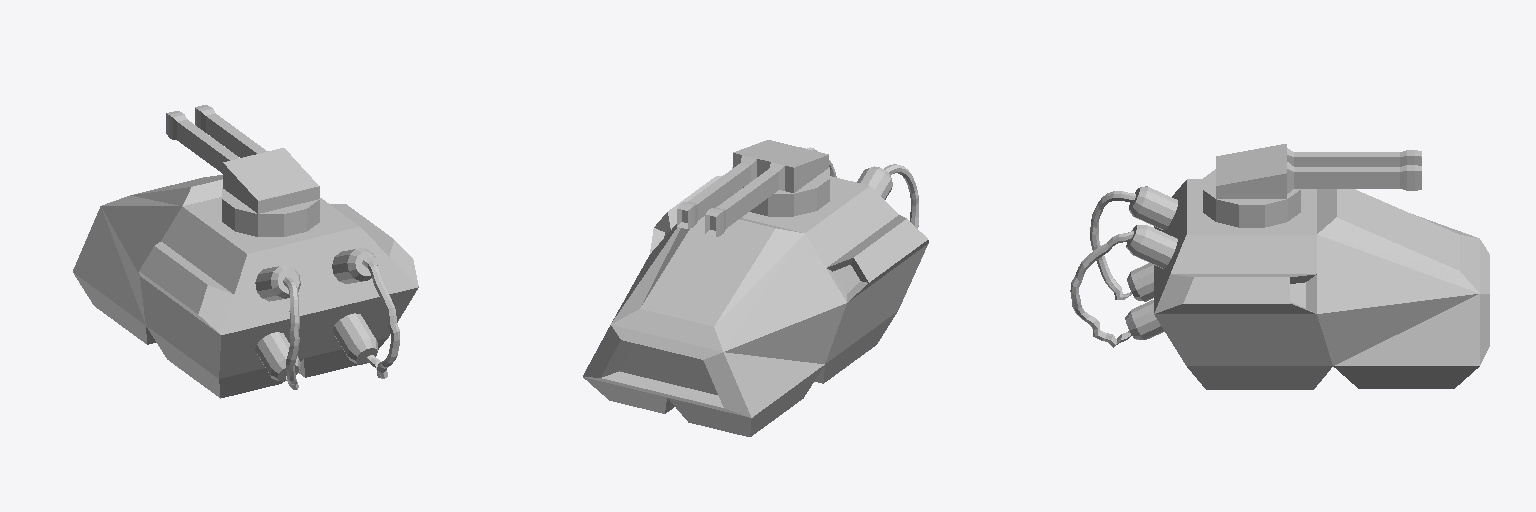
Rendered from tank3.obj.
The picture shows the model from 3 angles: view 1: azimuth 30°, elevation 25°; view 2: azimuth 150°, elevation 25°; view 3: azimuth 270°, elevation 25°; orthographic projection.
Parts seen in each view (by area): view 1: group[number redacted], group[number redacted], group[number redacted], group[number redacted], group[number redacted], group[number redacted], group[number redacted], group[number redacted], group[number redacted]; view 2: group[number redacted], group[number redacted], group[number redacted], group[number redacted], group[number redacted]; view 3: group[number redacted], group[number redacted], group[number redacted], group[number redacted], group[number redacted], group[number redacted], group[number redacted], group[number redacted], group[number redacted].
Boxes of the visible parts, <box> form: group[number redacted]: <box>73,175,418,398</box>; group[number redacted]: <box>166,105,319,213</box>; group[number redacted]: <box>222,188,319,236</box>; group[number redacted]: <box>333,313,377,364</box>; group[number redacted]: <box>362,257,399,378</box>; group[number redacted]: <box>255,332,300,381</box>; group[number redacted]: <box>332,248,377,283</box>; group[number redacted]: <box>255,265,300,301</box>; group[number redacted]: <box>283,277,299,389</box>; group[number redacted]: <box>583,176,928,436</box>; group[number redacted]: <box>677,140,828,236</box>; group[number redacted]: <box>732,167,829,216</box>; group[number redacted]: <box>857,166,892,199</box>; group[number redacted]: <box>884,164,918,228</box>; group[number redacted]: <box>1154,179,1489,389</box>; group[number redacted]: <box>1216,144,1421,198</box>; group[number redacted]: <box>1203,169,1300,227</box>; group[number redacted]: <box>1070,231,1133,347</box>; group[number redacted]: <box>1126,225,1177,268</box>; group[number redacted]: <box>1129,186,1177,229</box>; group[number redacted]: <box>1090,191,1135,299</box>; group[number redacted]: <box>1125,300,1164,339</box>; group[number redacted]: <box>1127,263,1153,301</box>.
Bounding box in the file's own units: 0.5153 × 0.443 × 0.8577.